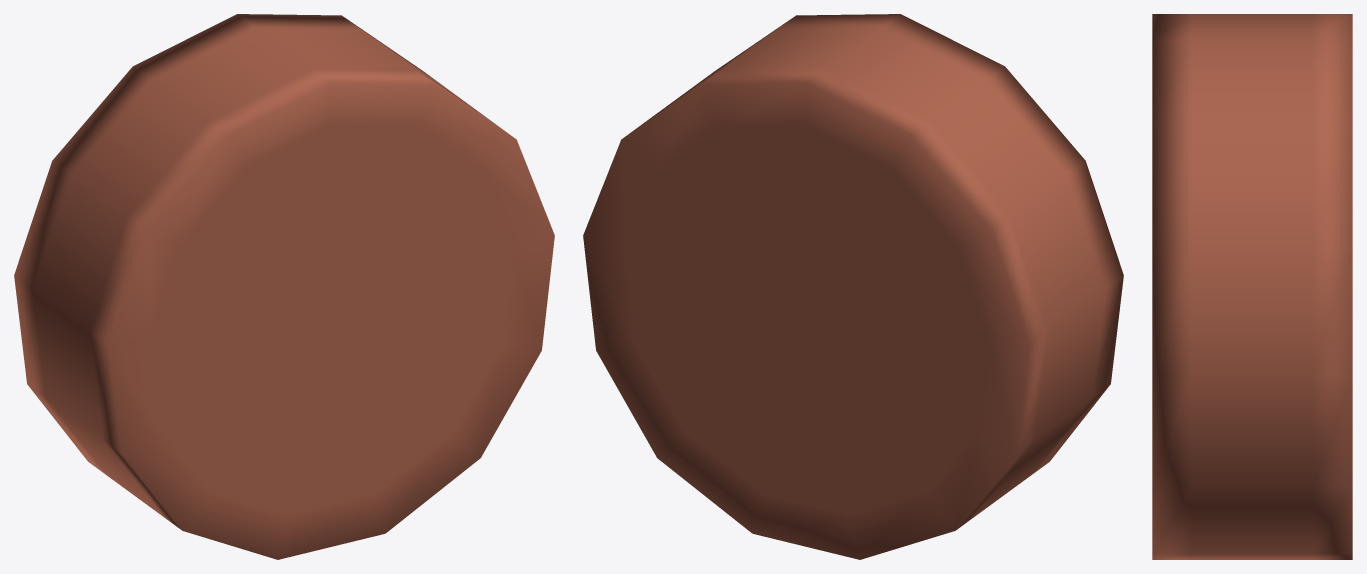
Rendered from shopping_cart_wheel.fbx.
3 renders of one model, left to right at view 1: azimuth 30°, elevation 25°; view 2: azimuth 150°, elevation 25°; view 3: azimuth 270°, elevation 25°, orthographic. The views are drawn at different scales.
Visible parts, largest first — view 1: front_left_wheel; view 2: front_left_wheel; view 3: front_left_wheel.
Boxes of the visible parts, <box> form: front_left_wheel: <box>14,14,554,559</box>; front_left_wheel: <box>583,14,1123,559</box>; front_left_wheel: <box>1152,14,1352,559</box>.
Bounding box in the file's own units: 8.42 × 22.99 × 22.83.
